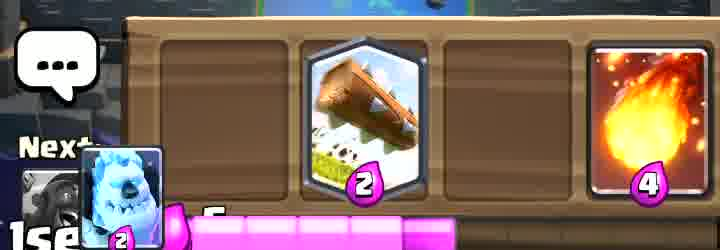fireball: (595, 46, 710, 194)
log: (311, 43, 424, 189)
